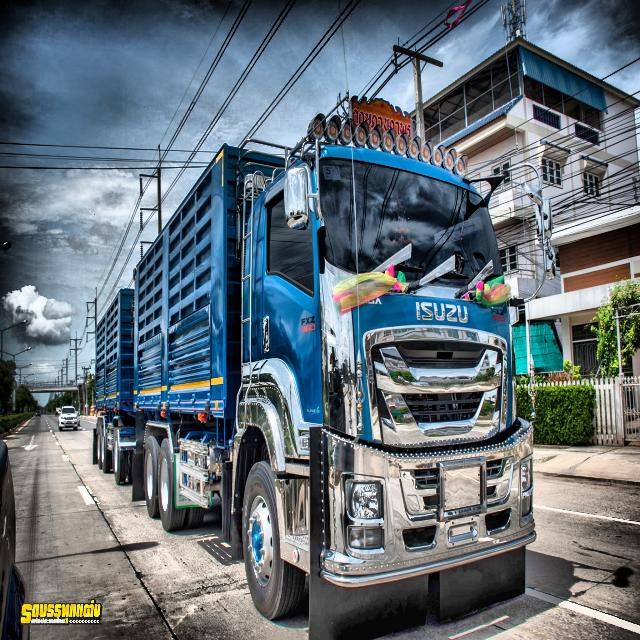trailer: (83, 42, 547, 622)
